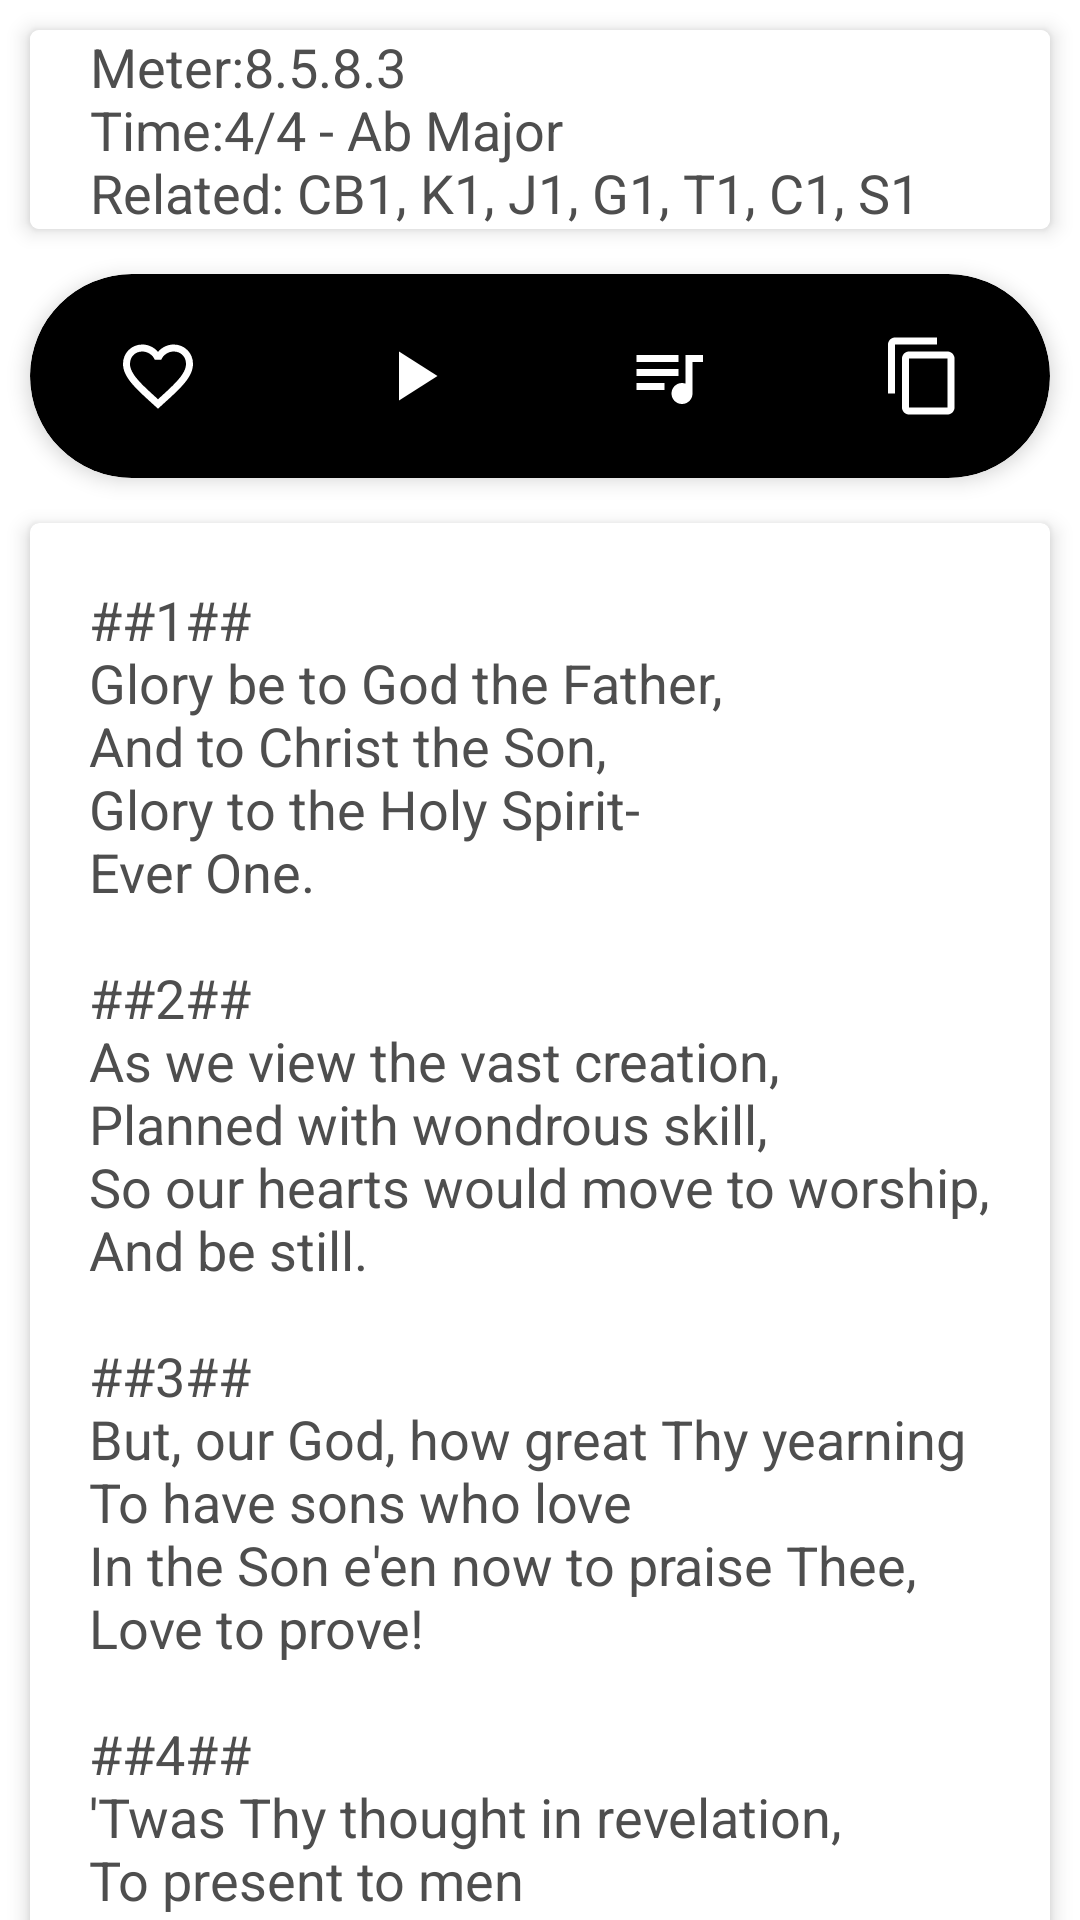

Locate icon controls on the screen. Image size 1080px×1920px, boxes as {"x1": x1, "y1": y1, "x2": x2, "y2": y2}.
favorite border: {"x1": 123, "y1": 344, "x2": 193, "y2": 409}
play arrow: {"x1": 399, "y1": 351, "x2": 437, "y2": 401}
queue music: {"x1": 636, "y1": 355, "x2": 703, "y2": 404}
